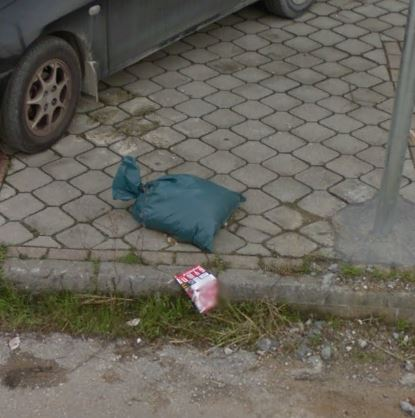trash: (99, 146, 253, 260), (167, 251, 232, 322)
